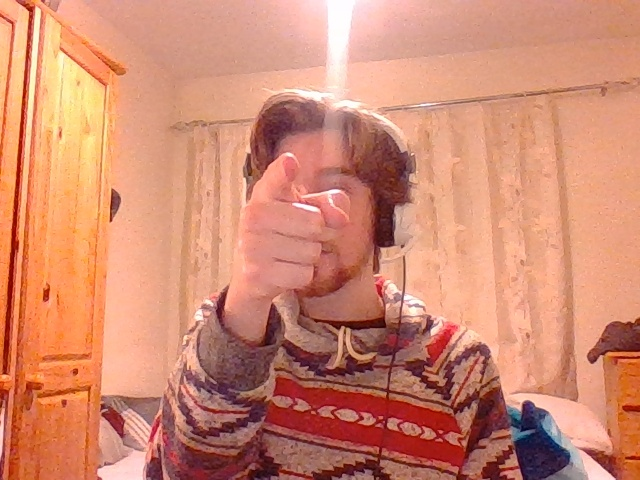you: (223, 152, 350, 323)
